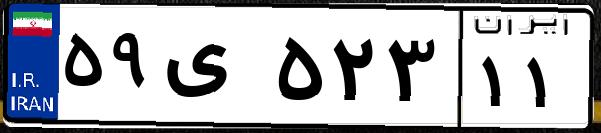1: (475, 38, 525, 113), (525, 38, 570, 115)
2: (330, 28, 385, 110)
3: (385, 28, 445, 110)
5: (270, 28, 330, 110), (57, 26, 110, 100)
9: (110, 28, 158, 98)
ی: (158, 20, 270, 120)
